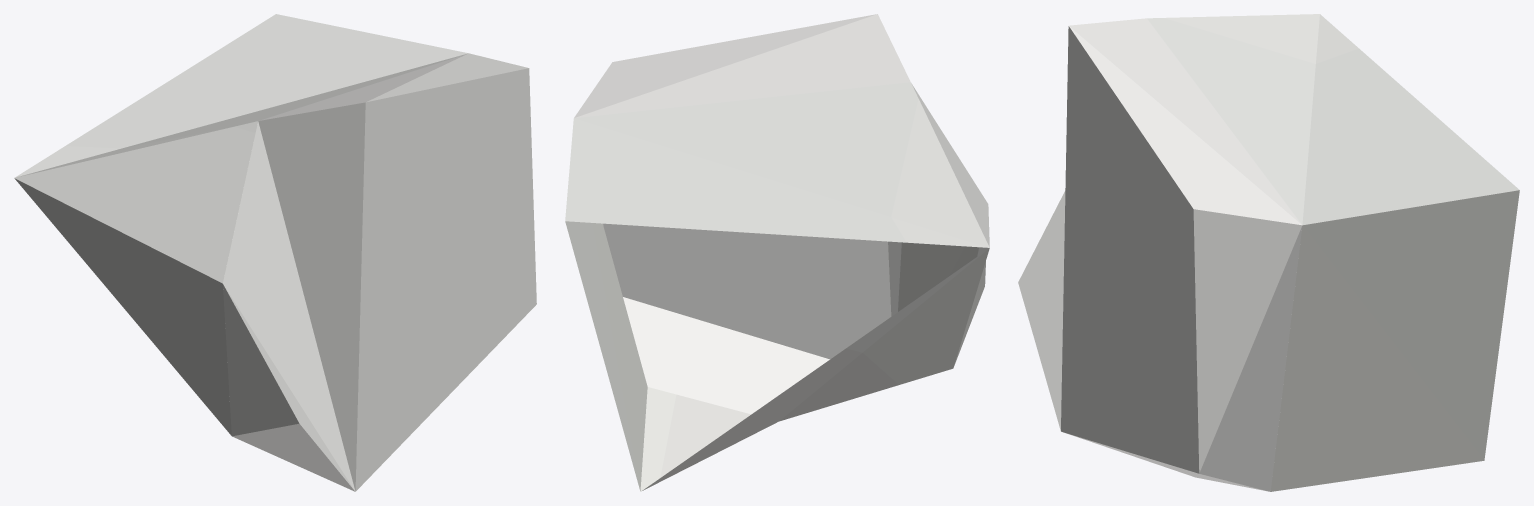
File: ztpj023-geode.glb
3 views of the same model, side by side, from view 1: azimuth 30°, elevation 25°; view 2: azimuth 150°, elevation 25°; view 3: azimuth 270°, elevation 25° (orthographic). The views are drawn at different scales.
Visible parts, largest first — view 1: Node; view 2: Node; view 3: Node.
Boxes of the visible parts, <box> form: Node: <box>14,14,536,491</box>; Node: <box>565,14,989,491</box>; Node: <box>1018,14,1519,491</box>.
Bounding box in the file's own units: 0.2088 × 0.17 × 0.1806.
1 material, 1 textured.
